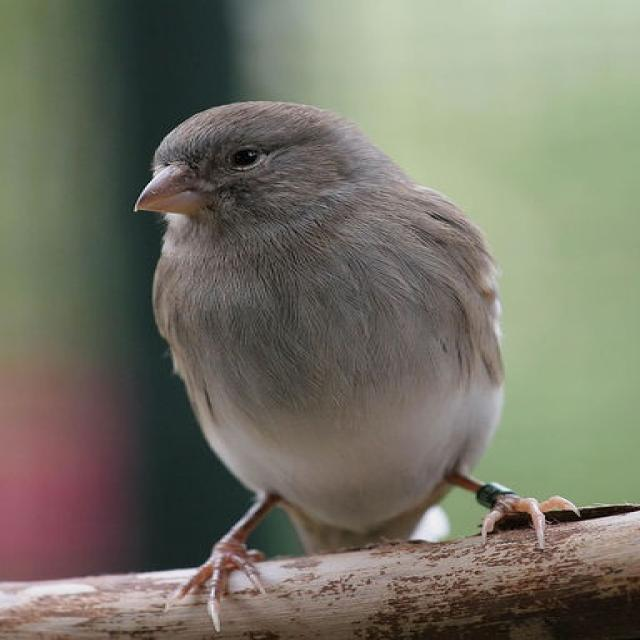bird: (132, 93, 593, 607)
